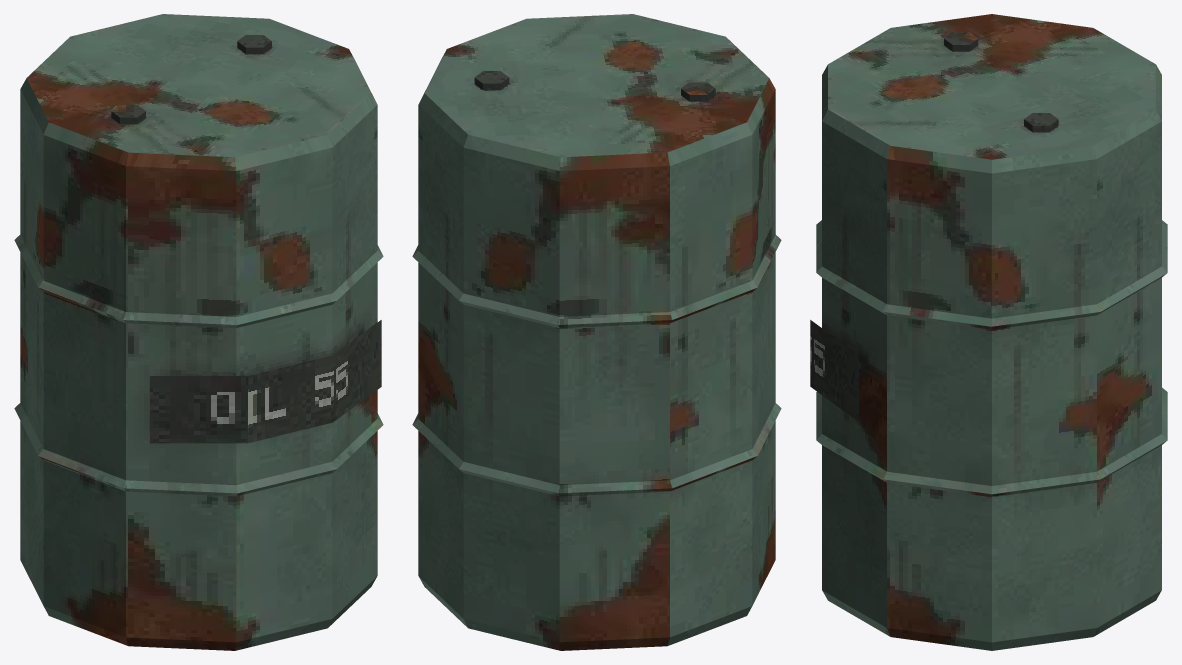
The model's file is vuena-px-barrel.glb.
3 renders of one model, left to right at view 1: azimuth 30°, elevation 25°; view 2: azimuth 150°, elevation 25°; view 3: azimuth 270°, elevation 25°, orthographic.
Parts seen in each view (by area): view 1: px_barrel; view 2: px_barrel; view 3: px_barrel.
Boxes of the visible parts, box(x1,y1,x2,y2) form: px_barrel: box(14, 14, 383, 650); px_barrel: box(412, 14, 781, 650); px_barrel: box(810, 14, 1167, 650).
Bounding box in the file's own units: 0.6 × 0.892 × 0.5804.
1 material, 1 textured.
